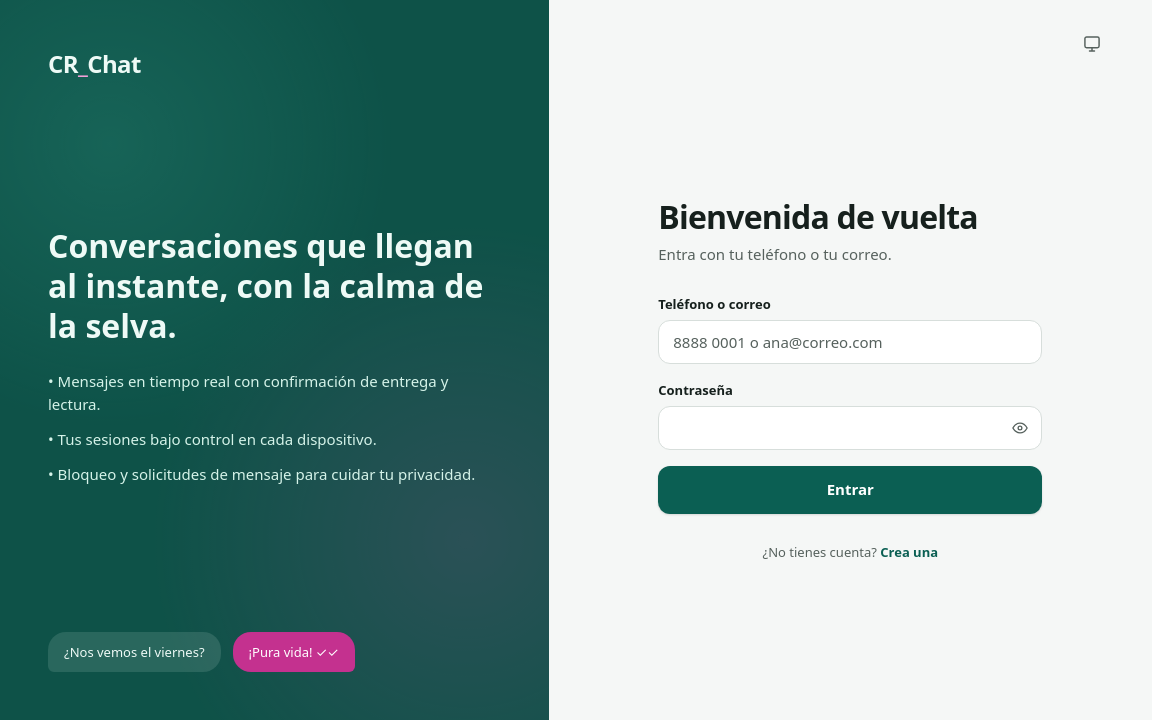
Test: acceso › entra con un teléfono local (se asume +506) y vuelve a la ruta pedida
Type "70000001" into the field labelled "Teléfono o correo" at [850, 342], box [658,320,1042,364]
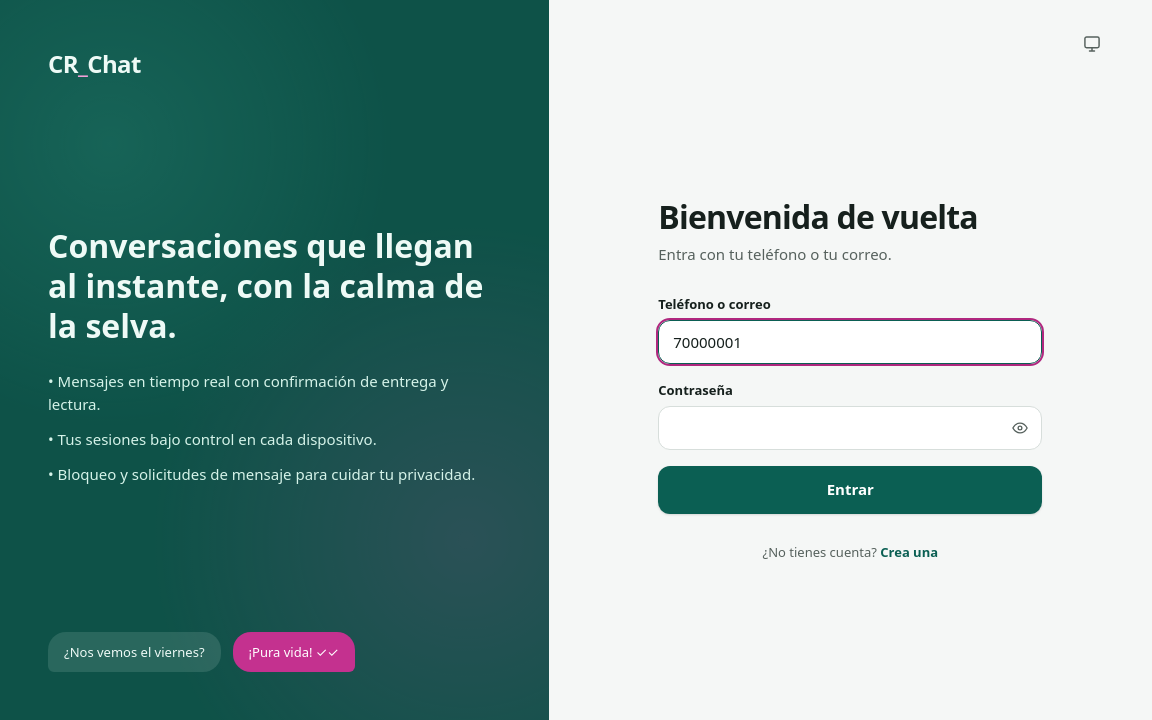
Type "Demo-Ana-2026!" into the password field labelled "Contraseña" at [850, 428], box [658,406,1042,450]
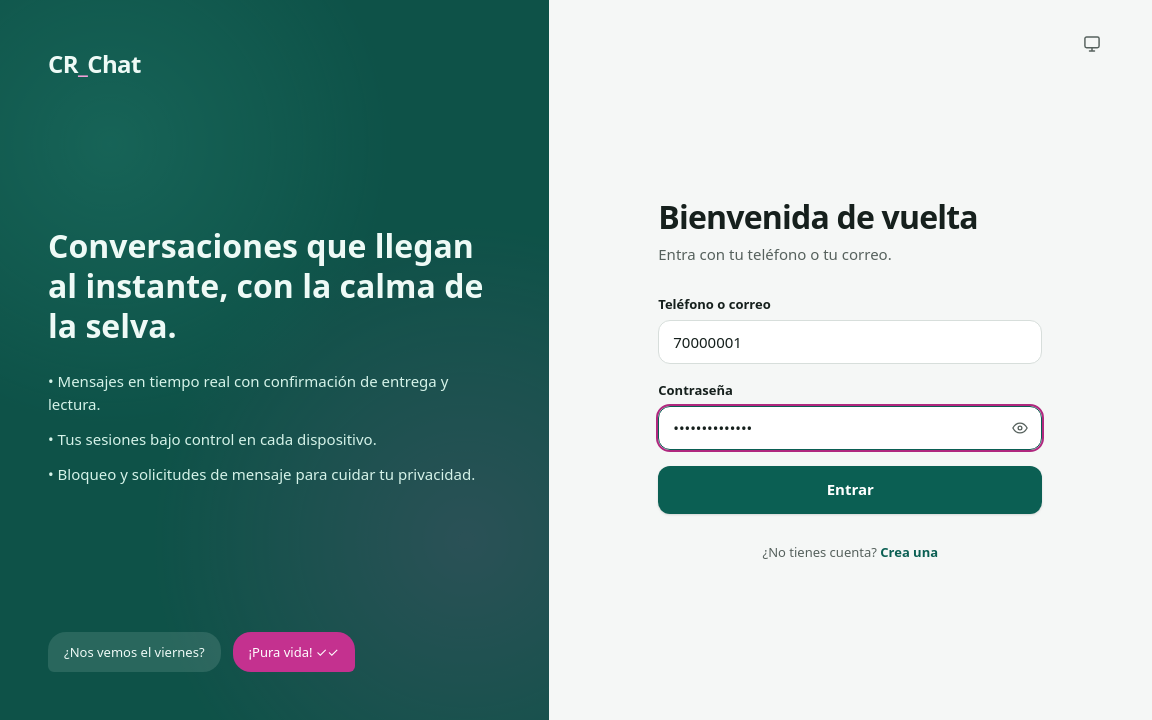
Click the button "Entrar" at [850, 490], box [658,466,1042,514]
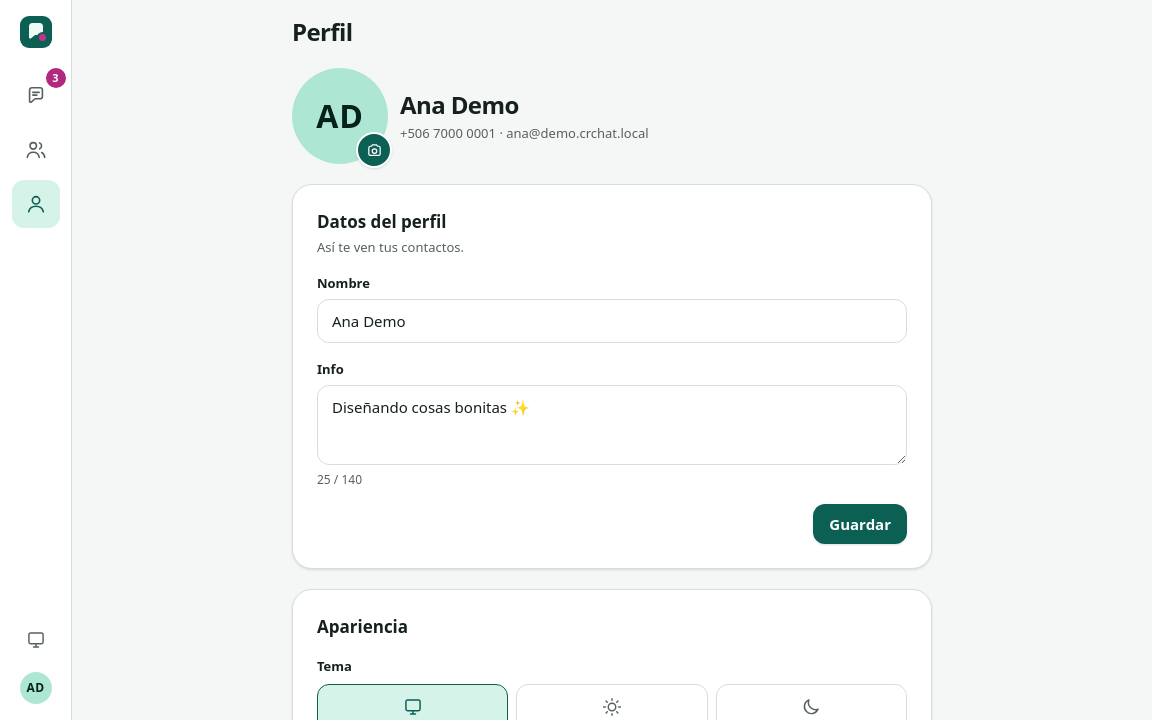
Expected: the heading "Perfil" is shown, [292,15,352,48]
